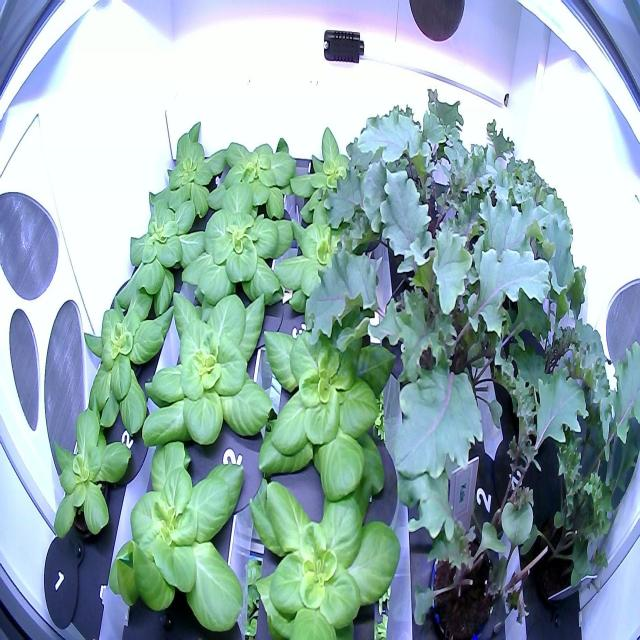young: (103, 433, 256, 640), (253, 314, 406, 508), (242, 470, 408, 640), (138, 274, 278, 458), (172, 172, 300, 313), (269, 202, 391, 342), (78, 284, 179, 438), (104, 186, 210, 326), (42, 402, 134, 550), (285, 120, 392, 234), (144, 109, 235, 224), (206, 126, 300, 224)
